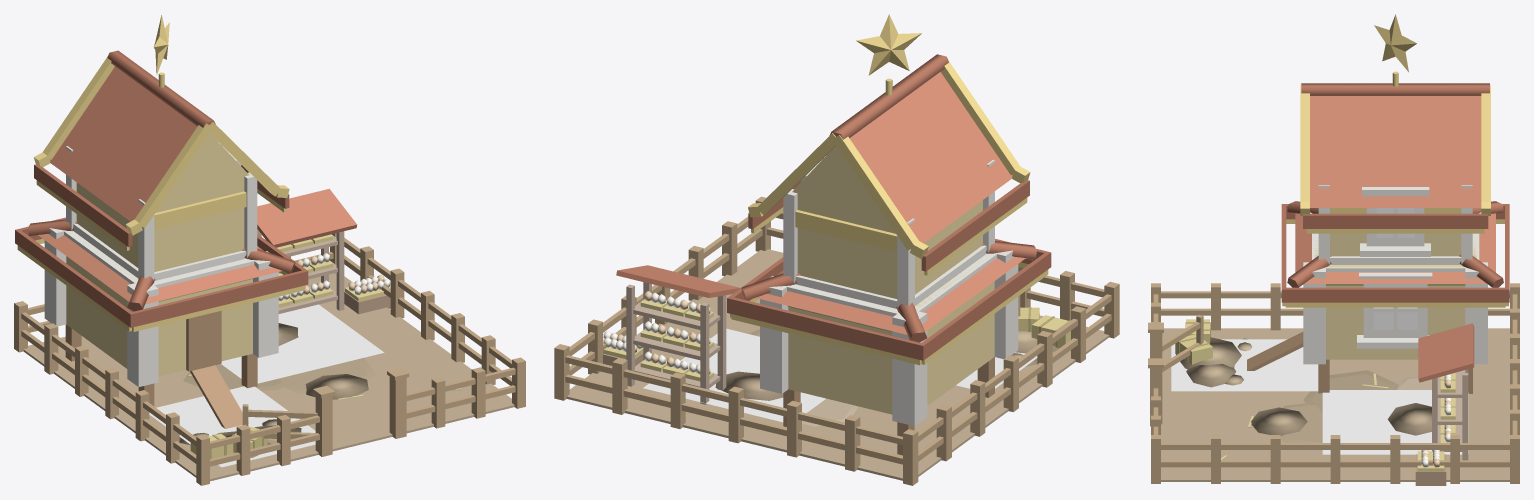
The model's file is chicken_coop_2.glb.
3 renders of one model, left to right at view 1: azimuth 30°, elevation 25°; view 2: azimuth 150°, elevation 25°; view 3: azimuth 270°, elevation 25°, orthographic. The views are drawn at different scales.
Visible parts, largest first — view 1: body5, chicken_coop_2, body, body4, body2; view 2: body5, chicken_coop_2, body4, body3, body2; view 3: body5, chicken_coop_2, body4.
Part boxes in pixels (left/top/right/bottom): body5: left=14, top=15, right=525, bottom=485; chicken_coop_2: left=149, top=304, right=384, bottom=467; body: left=187, top=310, right=221, bottom=371; body4: left=277, top=234, right=390, bottom=314; body2: left=278, top=280, right=333, bottom=307; body5: left=554, top=14, right=1119, bottom=485; chicken_coop_2: left=643, top=328, right=1037, bottom=422; body4: left=603, top=291, right=713, bottom=366; body3: left=640, top=321, right=713, bottom=350; body2: left=640, top=351, right=713, bottom=381; body5: left=1148, top=14, right=1519, bottom=483; chicken_coop_2: left=1171, top=339, right=1468, bottom=454; body4: left=1415, top=372, right=1455, bottom=485.
Size of the model in its own units: 1.8 by 1.9 by 1.77.
